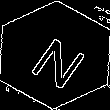N_NE: (20, 23, 90, 87)
